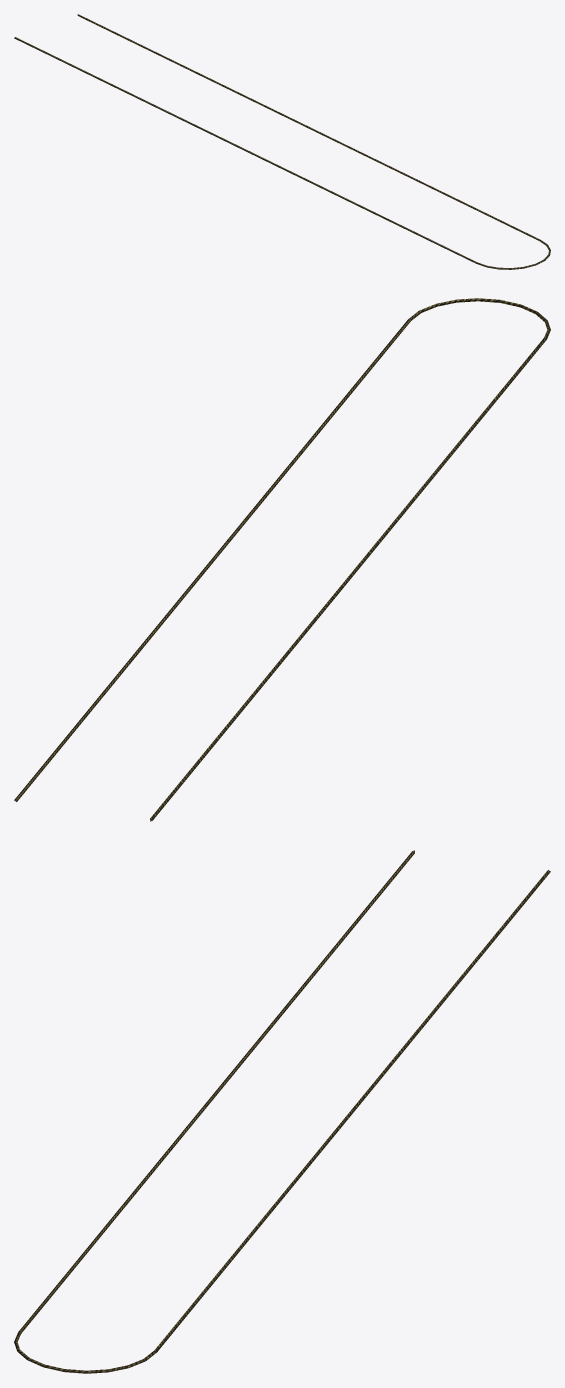
File: SWORDLIGHT20_MAINCAVROPE01CONV02.obj
The picture shows the model from 3 angles, top to bottom: view 1: azimuth 30°, elevation 25°; view 2: azimuth 150°, elevation 25°; view 3: azimuth 330°, elevation 25°; orthographic projection. The views are drawn at different scales.
Visible parts, largest first — view 1: cavRope01Conv02; view 2: cavRope01Conv02; view 3: cavRope01Conv02.
Boxes of the visible parts, bbox=[...] form: cavRope01Conv02: bbox=[14, 14, 550, 269]; cavRope01Conv02: bbox=[14, 298, 550, 821]; cavRope01Conv02: bbox=[14, 850, 550, 1373].
Size of the model in its own units: 681 by 6.33 by 2319.
